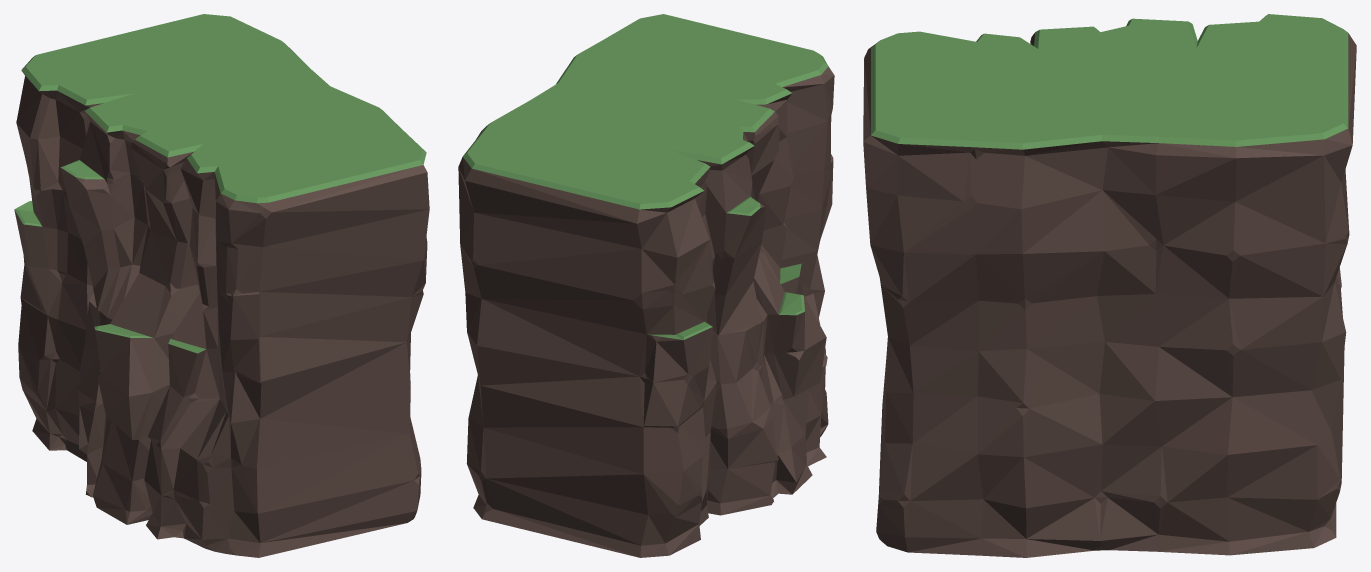
File: Cliff 3.fbx
3 renders of one model, left to right at view 1: azimuth 30°, elevation 25°; view 2: azimuth 150°, elevation 25°; view 3: azimuth 270°, elevation 25°, orthographic. The views are drawn at different scales.
Visible parts, largest first — view 1: Cliff 9; view 2: Cliff 9; view 3: Cliff 9.
Boxes of the visible parts, x1,y1,x2,y2 form: Cliff 9: (14, 14, 429, 557); Cliff 9: (458, 14, 834, 557); Cliff 9: (863, 14, 1356, 557).
Bounding box in the file's own units: 1.54 × 2.02 × 2.17.
